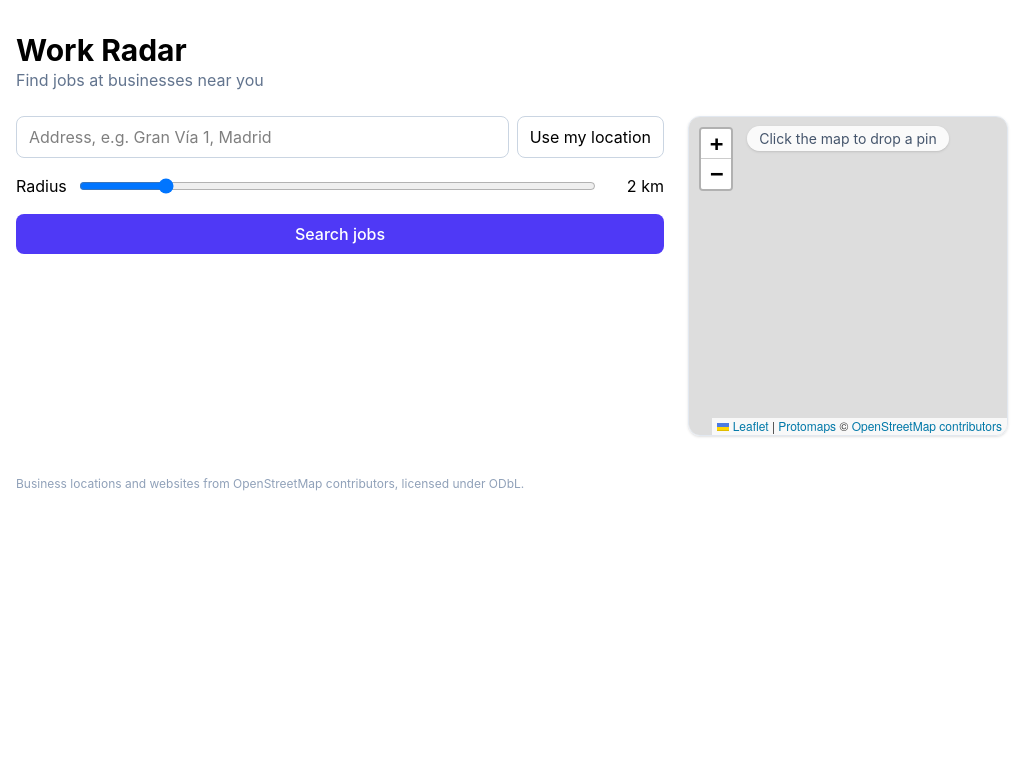
dropping a pin on the map searches from there instead of the address
This screenshot has width=1036, height=768.
Type "Écublens" into the dropdown with placeholder "Address, e.g. Gran Vía 1, Madrid" at (262, 137), box [16,116,509,158]
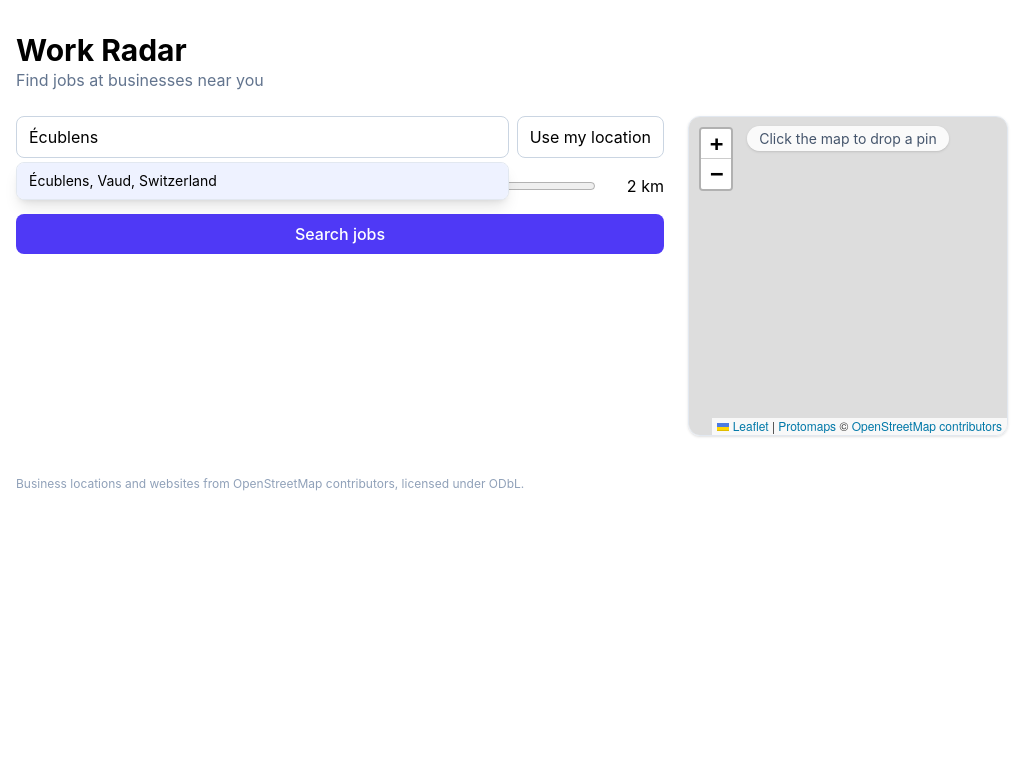
Press the mouse on the button "Écublens, Vaud, Switzerland" at (123, 180), box [17,163,508,199]
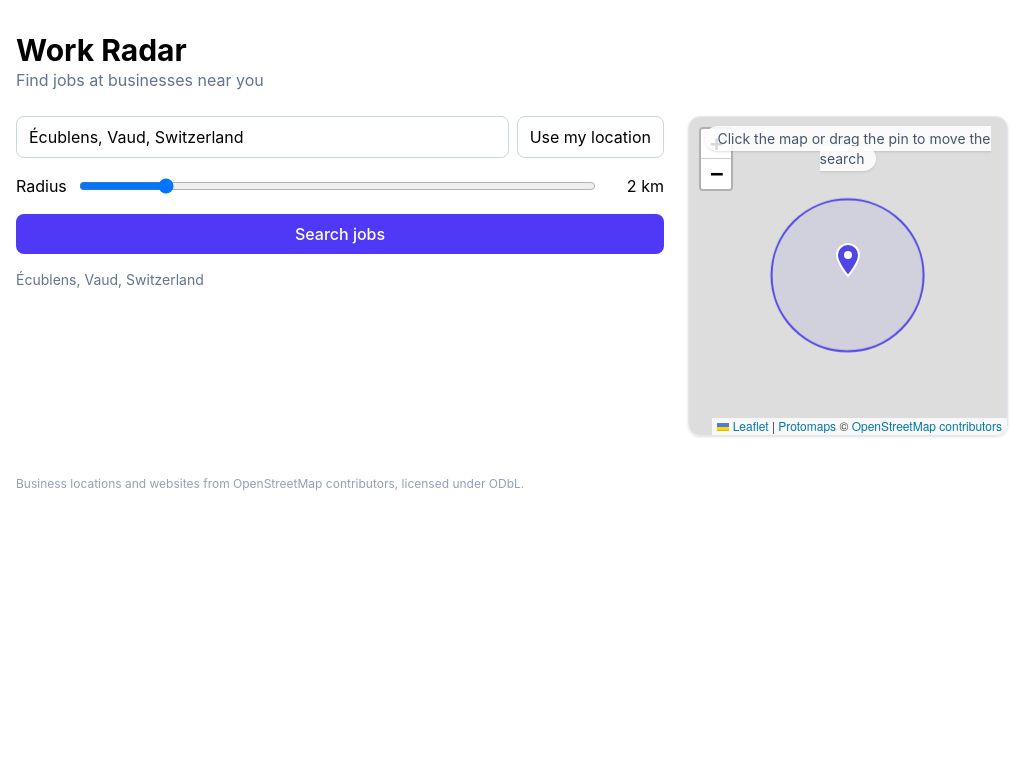
Click the element with class "leaflet-container" at (848, 276), box [689,117,1007,435]
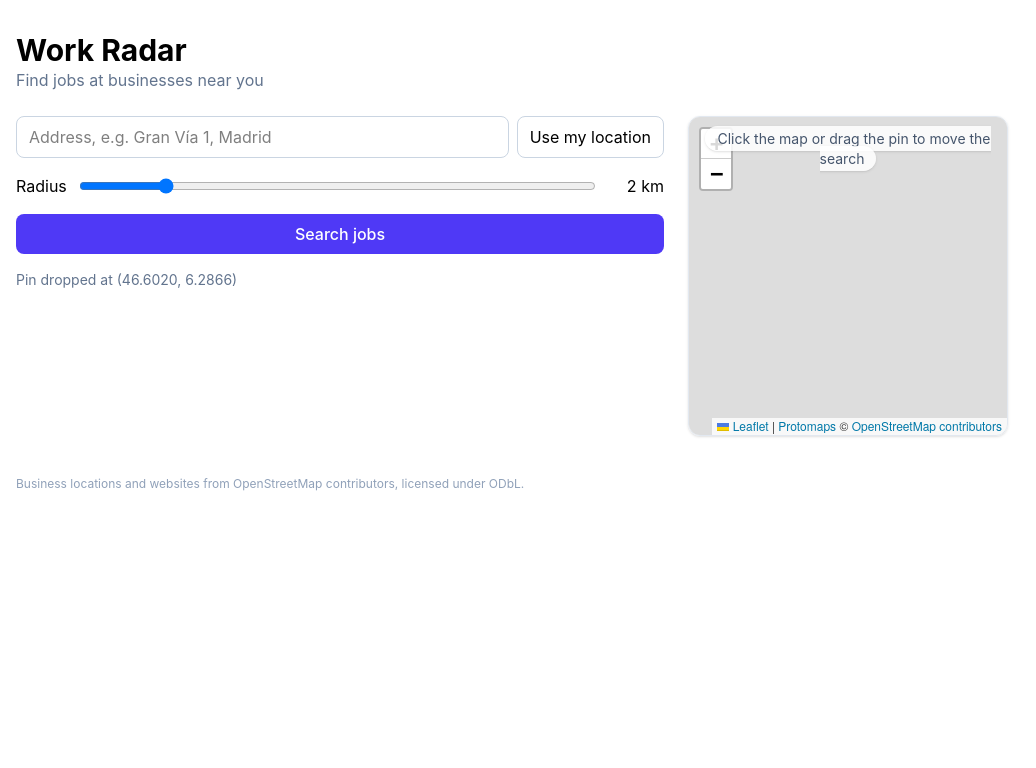
Check: the text "Pin dropped at (46.6020, 6.2866)" is shown, box [16,271,237,288]
Check: the dropdown with placeholder "Address, e.g. Gran Vía 1, Madrid" is empty, box [16,116,509,158]
Click the button "Search jobs" at (340, 234), box [16,214,664,254]
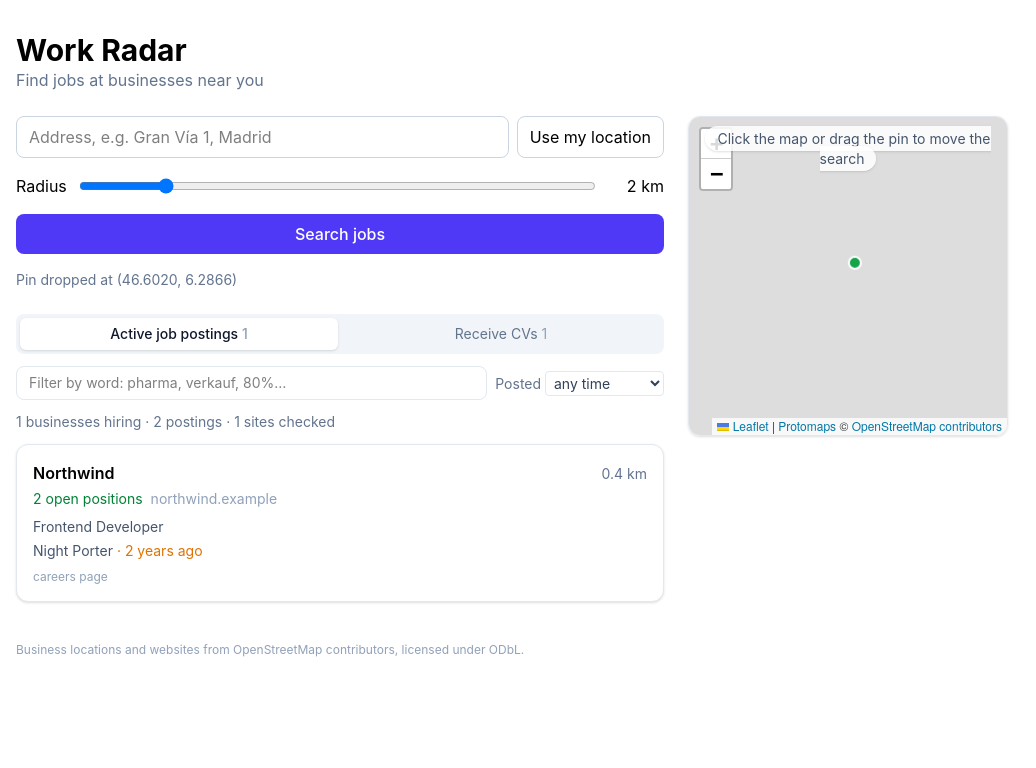
Check: the heading "Northwind" is shown, box [33,461,114,485]
